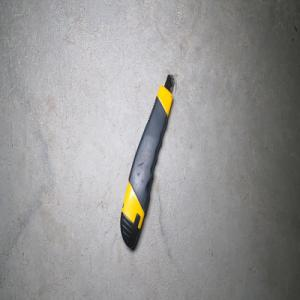Cutter: (119, 73, 175, 250)
